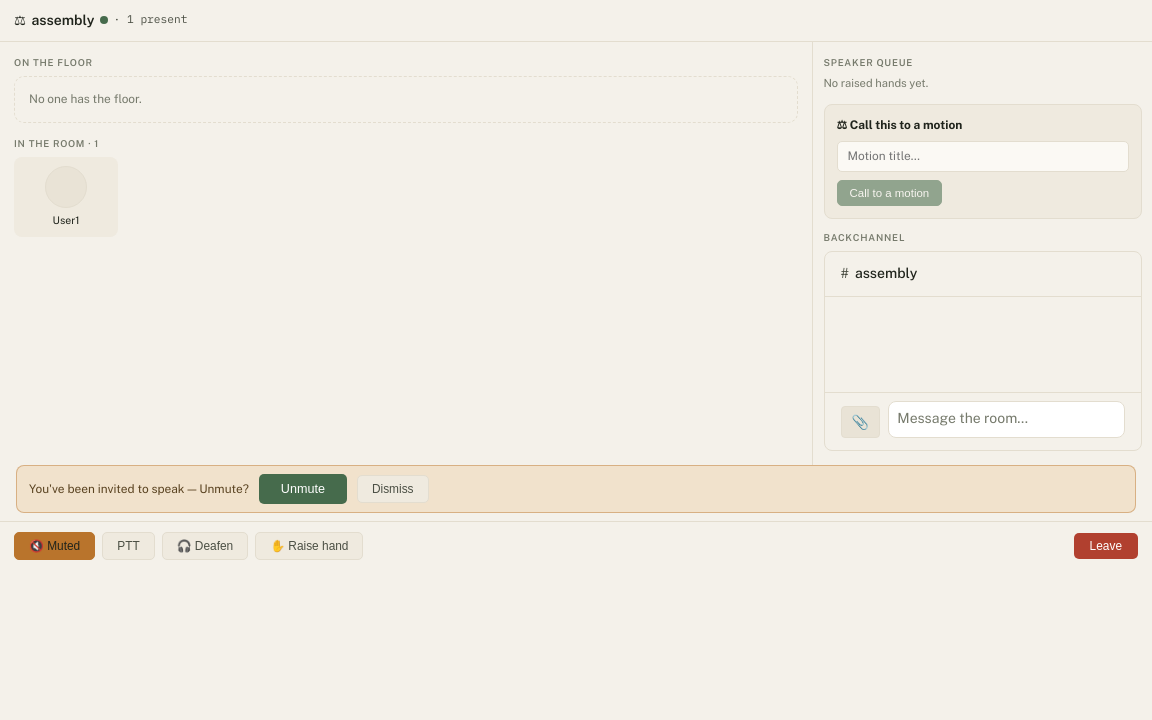
Test case: TownHallView (ZEB-612 S5): invited banner › a failed lower-hand IPC keeps the banner up and surfaces the error
Click the button with test id "th-invite-dismiss": [393, 489] box [357,475,428,503]
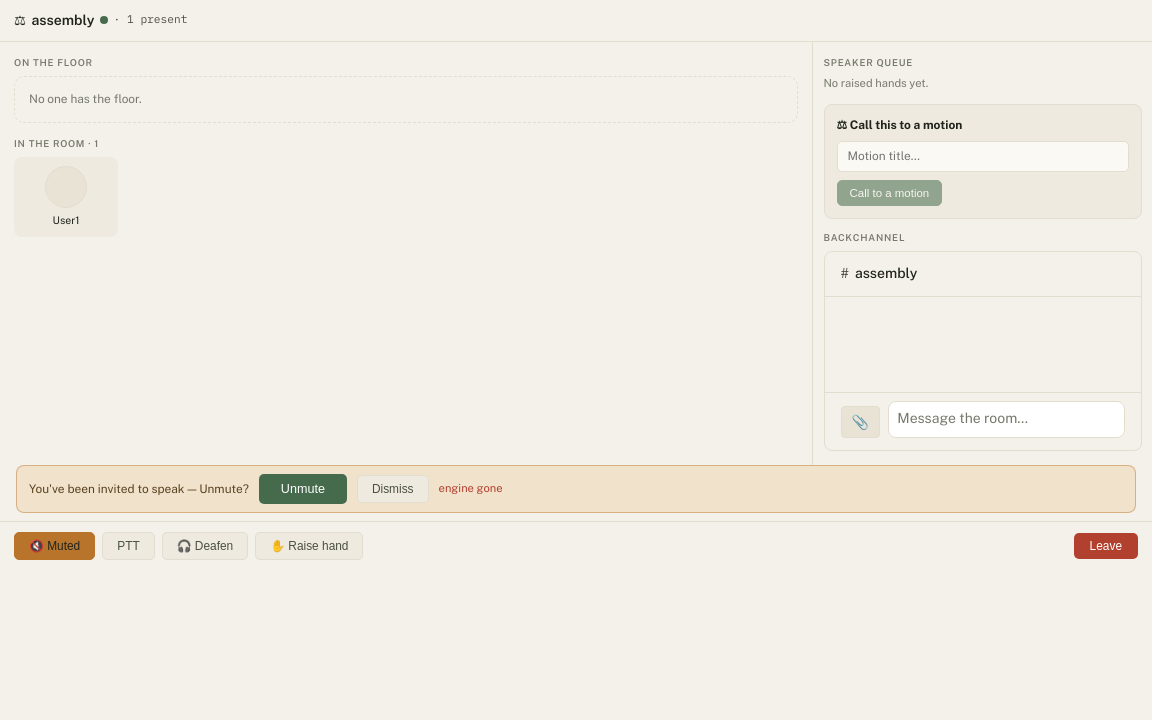
Expected: the message "You've been invited to speak — Unmute? Unmute Dismiss engine gone" is shown, [16,465,1136,513]
Result: the message reads "engine gone" at [439,481,502,495]
